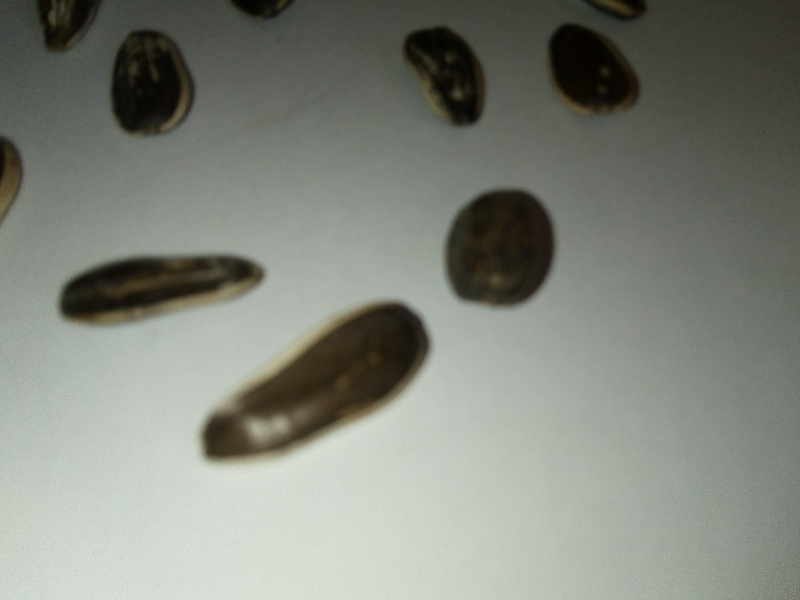girasol: (48, 242, 272, 331), (438, 181, 567, 315)
